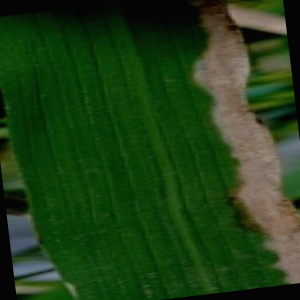Leaf_Blast: (135, 0, 272, 294)
